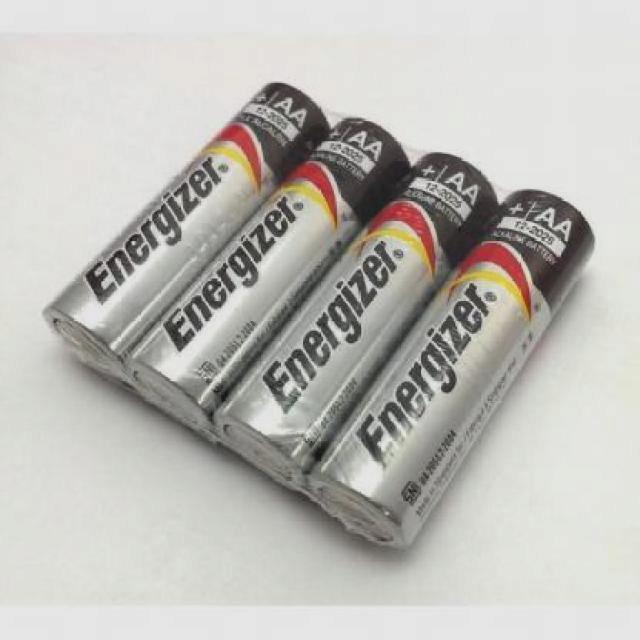AA: (301, 185, 601, 559), (211, 150, 503, 500), (124, 113, 415, 433), (40, 77, 337, 383)
